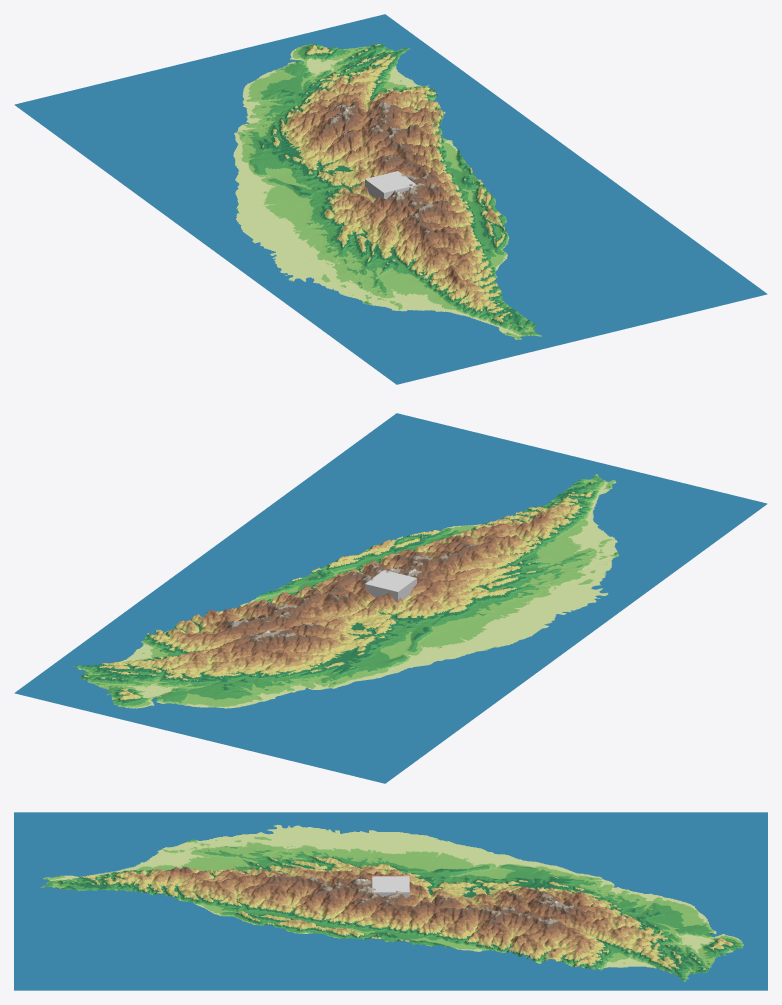
3 views of the same model, one above another, from view 1: azimuth 30°, elevation 25°; view 2: azimuth 150°, elevation 25°; view 3: azimuth 270°, elevation 25° (orthographic).
Visible parts, largest first — view 1: Sea_Level_Schematic, Taiwan_Elevation, Cube; view 2: Sea_Level_Schematic, Taiwan_Elevation, Cube; view 3: Sea_Level_Schematic, Taiwan_Elevation, Cube.
Part boxes in pixels (box(x1,y1,x2,y2)): Sea_Level_Schematic: box(14, 14, 767, 384); Taiwan_Elevation: box(233, 43, 541, 339); Cube: box(365, 171, 416, 199); Sea_Level_Schematic: box(14, 413, 767, 783); Taiwan_Elevation: box(73, 474, 618, 708); Cube: box(365, 570, 416, 602); Sea_Level_Schematic: box(14, 812, 767, 990); Taiwan_Elevation: box(40, 824, 743, 981); Cube: box(372, 876, 409, 898).
Bounding box in the file's own units: 22.44 × 2.13 × 40.08.
